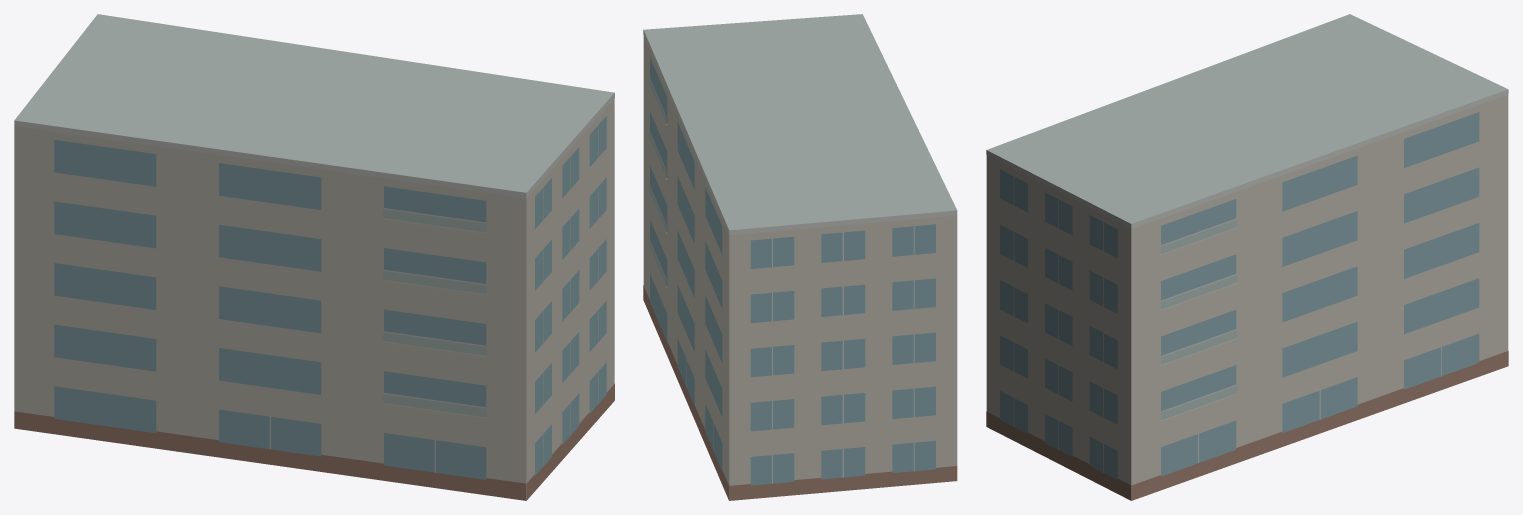
File: survey-upis-32636328.glb
3 renders of one model, left to right at view 1: azimuth 30°, elevation 25°; view 2: azimuth 150°, elevation 25°; view 3: azimuth 270°, elevation 25°, orthographic. The views are drawn at different scales.
Parts seen in each view (by area): view 1: survey-upis-32636328.tmp; view 2: survey-upis-32636328.tmp; view 3: survey-upis-32636328.tmp.
Part boxes in pixels (x1,y1,x2,y2): survey-upis-32636328.tmp: (14, 14, 614, 500); survey-upis-32636328.tmp: (643, 14, 957, 500); survey-upis-32636328.tmp: (986, 14, 1508, 500).
Bounding box in the file's own units: 21.32 × 13.1 × 22.39.
